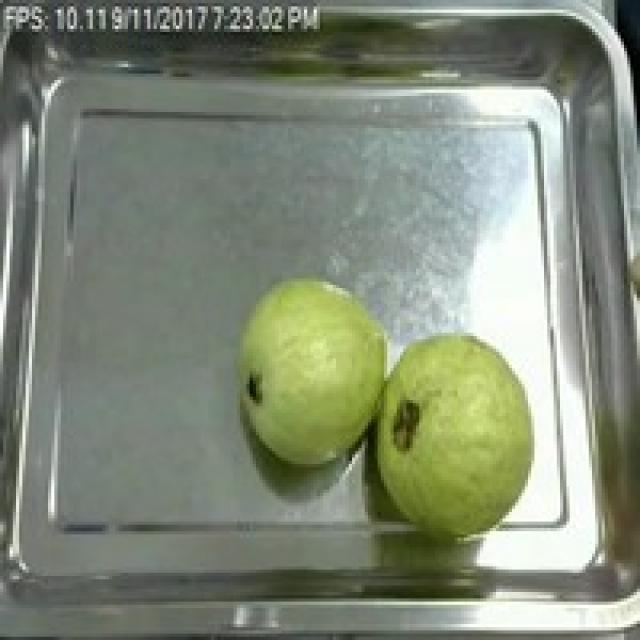Fruit: (358, 326, 550, 541), (230, 266, 404, 474)
